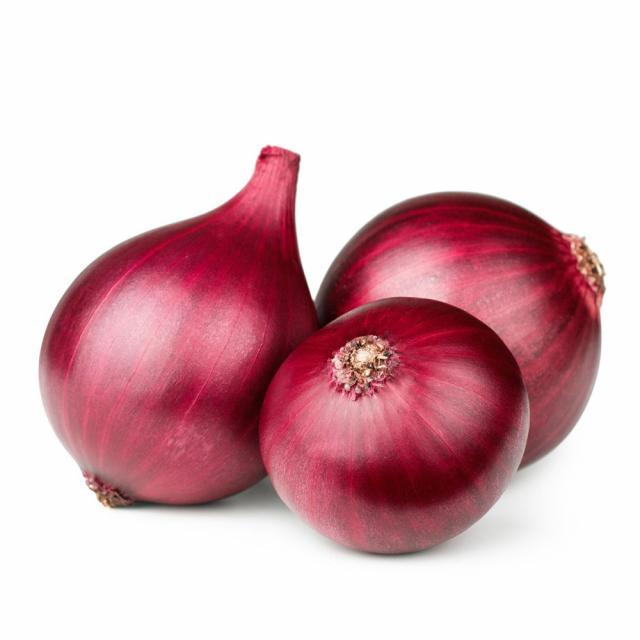onion: (36, 145, 324, 512), (314, 188, 608, 475), (257, 295, 534, 558)
